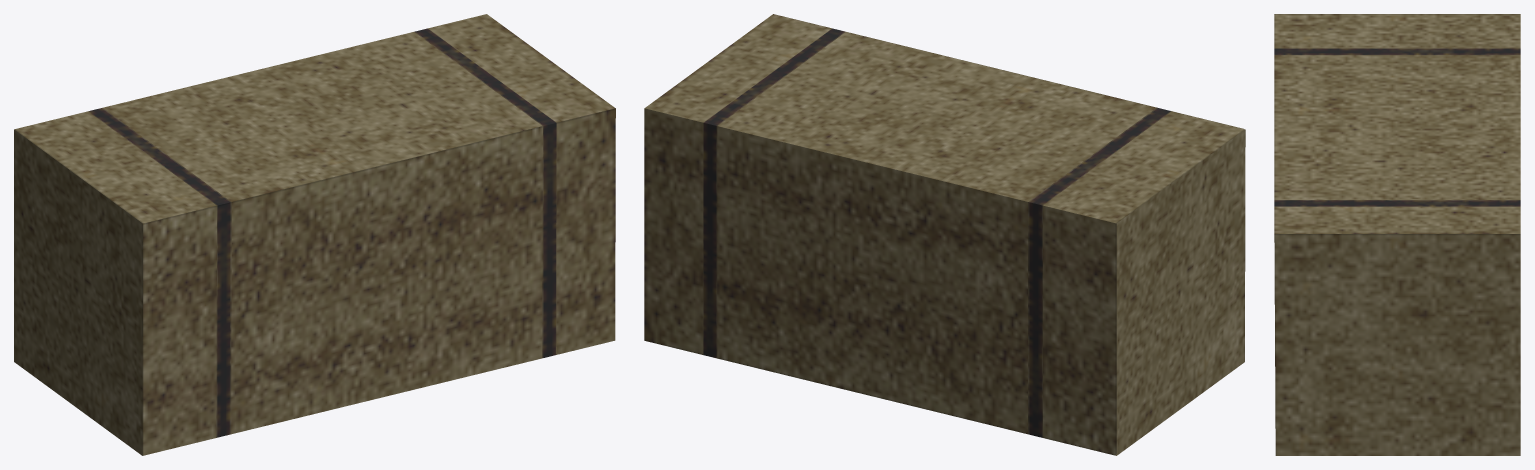
File: SM_EC_Hay_0.fbx
3 renders of one model, left to right at view 1: azimuth 30°, elevation 25°; view 2: azimuth 150°, elevation 25°; view 3: azimuth 270°, elevation 25°, orthographic. The views are drawn at different scales.
Visible parts, largest first — view 1: SM_EC_Hay_0; view 2: SM_EC_Hay_0; view 3: SM_EC_Hay_0.
Part boxes in pixels (x1=…): SM_EC_Hay_0: x1=14, y1=14, x2=615, y2=455; SM_EC_Hay_0: x1=644, y1=14, x2=1245, y2=455; SM_EC_Hay_0: x1=1274, y1=14, x2=1520, y2=455.
Bounding box in the file's own units: 1.95 × 0.9209 × 0.9165.
